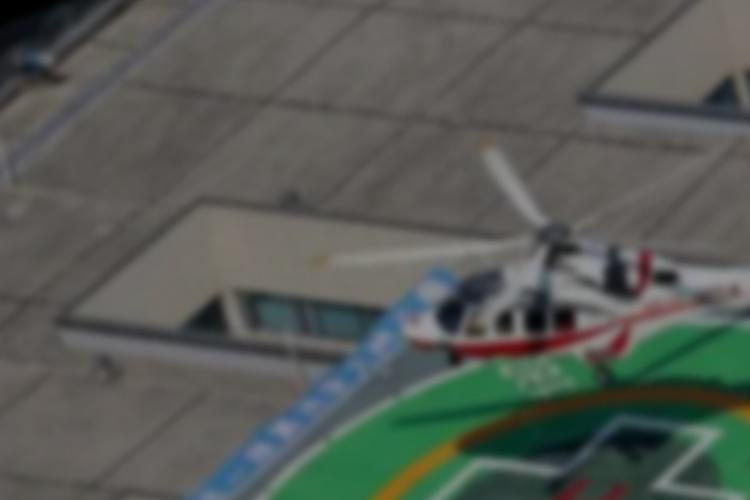Apron: (335, 362, 750, 500)
